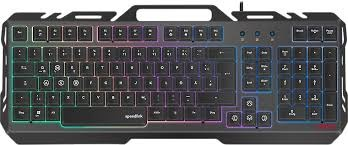keyboard: (7, 14, 345, 136)
